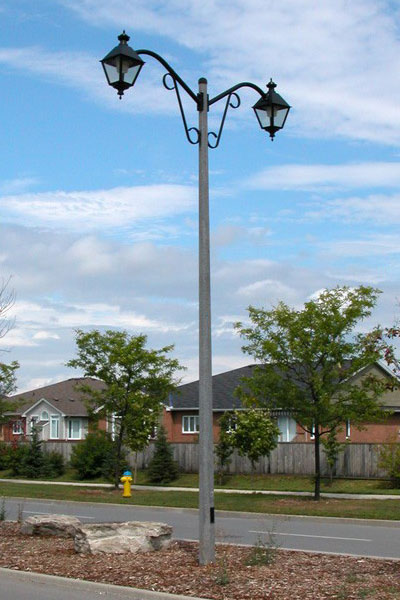light_pole: (182, 66, 224, 572)
